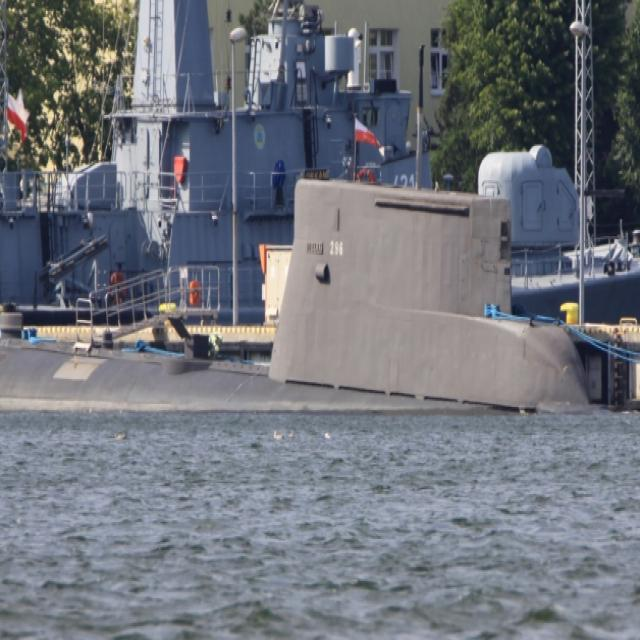submarine: (1, 147, 626, 420)
